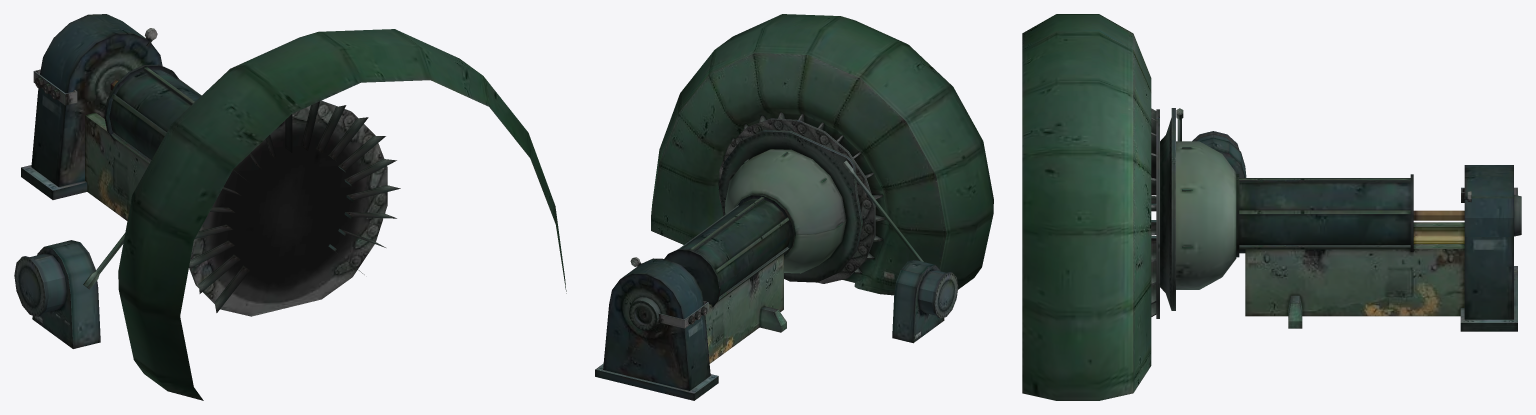
The model's file is generator01.glb.
3 views of the same model, side by side, from view 1: azimuth 30°, elevation 25°; view 2: azimuth 150°, elevation 25°; view 3: azimuth 270°, elevation 25° (orthographic). The views are drawn at different scales.
Parts seen in each view (by area): view 1: 0_generator01; view 2: 0_generator01; view 3: 0_generator01.
Boxes of the visible parts, bbox=[...] form: 0_generator01: bbox=[14, 14, 566, 400]; 0_generator01: bbox=[595, 14, 993, 400]; 0_generator01: bbox=[1022, 14, 1521, 400].
Size of the model in its own units: 5.76 by 3.68 by 6.18.
1 material, 1 textured.
